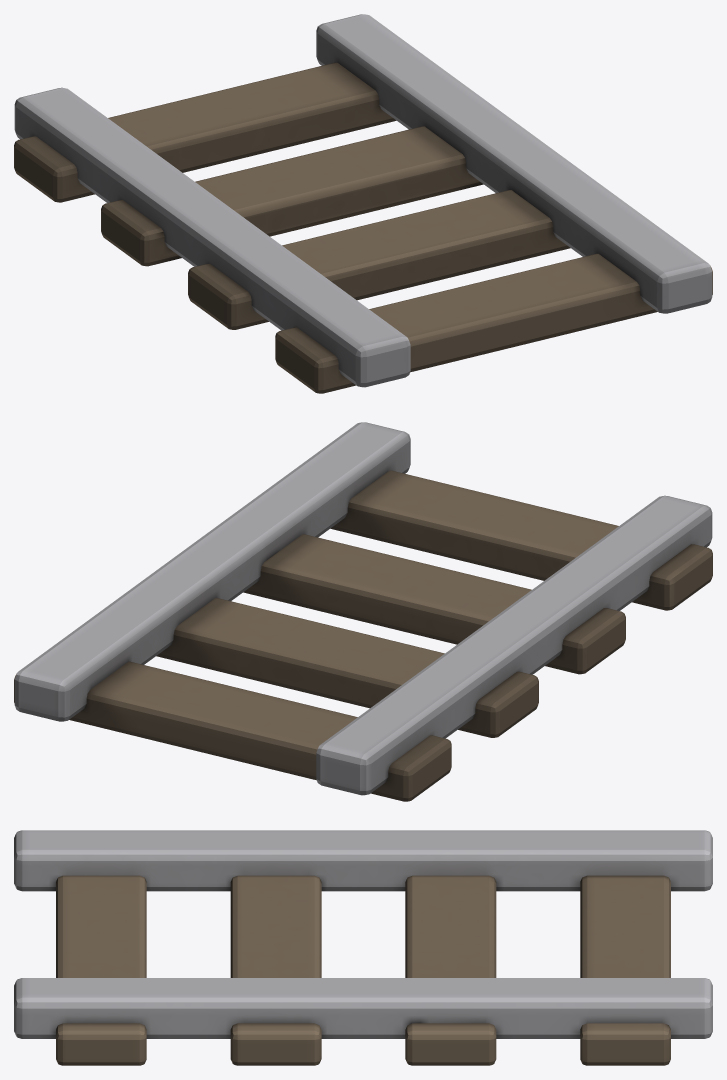
Rendered from rail.glb.
3 views of the same model, one above another, from view 1: azimuth 30°, elevation 25°; view 2: azimuth 150°, elevation 25°; view 3: azimuth 270°, elevation 25° (orthographic).
Visible parts, largest first — view 1: rail; view 2: rail; view 3: rail.
Part boxes in pixels (x1,y1,x2,y2): rail: (14, 14, 712, 393); rail: (14, 422, 712, 801); rail: (14, 830, 712, 1065).
Size of the model in its own units: 0.66 by 0.09 by 1.
2 materials, 2 textured.
